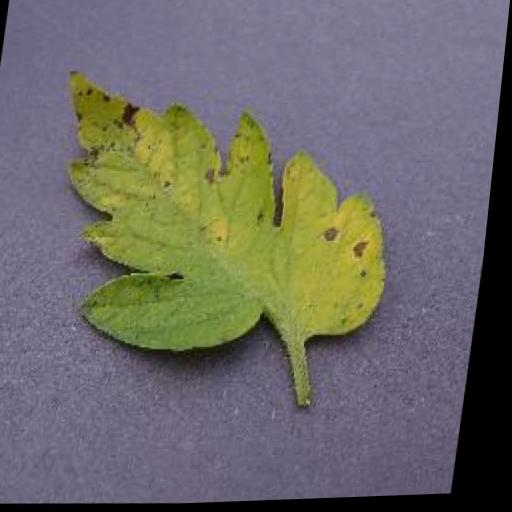Septoria: (36, 59, 416, 365)
